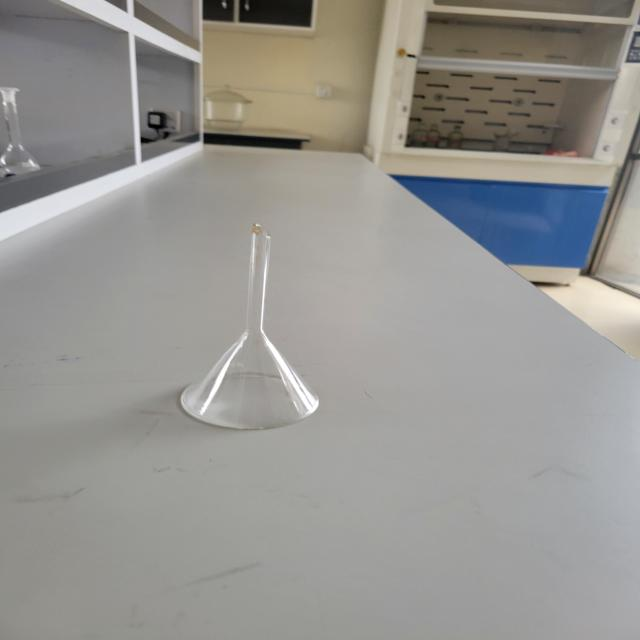Funnel: (161, 200, 382, 446)
